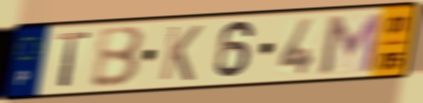4: (275, 16, 315, 78)
6: (213, 19, 256, 82)
B: (89, 24, 147, 90)
K: (157, 24, 205, 83)
M: (318, 11, 385, 76)
T: (55, 30, 92, 89)
